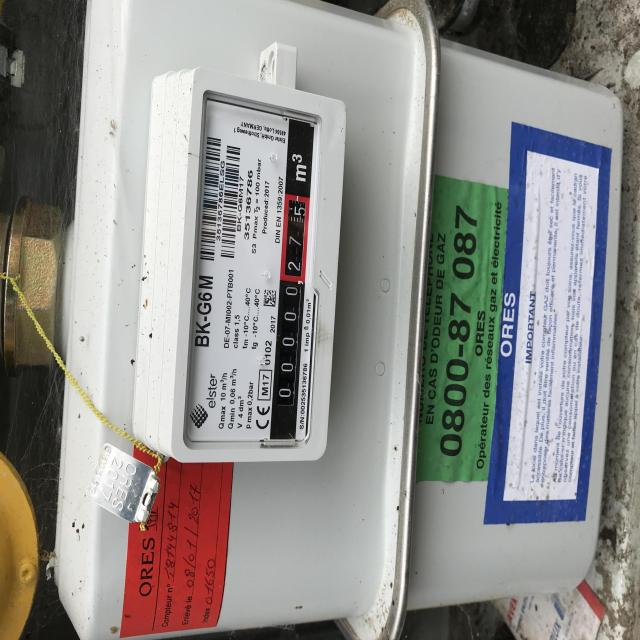gaz_meter: (187, 93, 317, 448)
indication: (272, 196, 311, 438)
